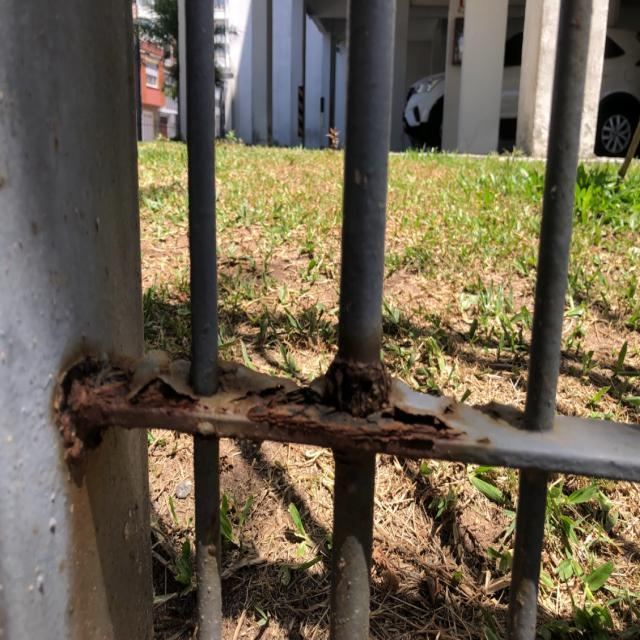Corrosion: (52, 343, 476, 480)
